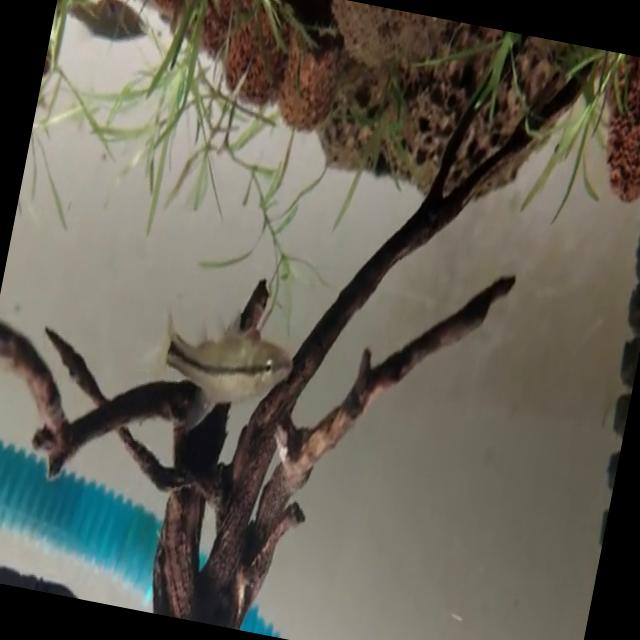Cakil Baligi: (131, 302, 300, 429)
